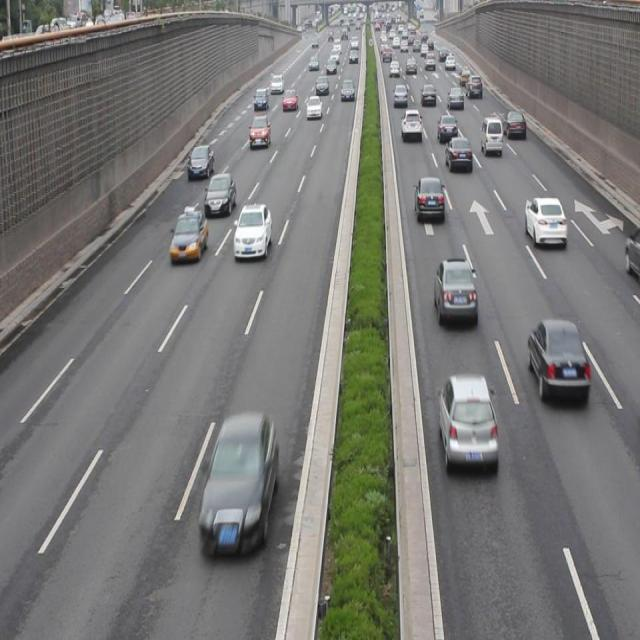car: (200, 408, 279, 556), (436, 372, 497, 471), (526, 316, 588, 401), (432, 256, 477, 326), (523, 194, 567, 247), (232, 202, 272, 258), (169, 208, 208, 264), (413, 174, 445, 224), (203, 170, 237, 216), (187, 142, 215, 178), (445, 135, 471, 173), (623, 225, 640, 281), (249, 116, 272, 149), (399, 108, 422, 140), (504, 108, 526, 140), (437, 114, 458, 144)
truck: (480, 116, 502, 155)
